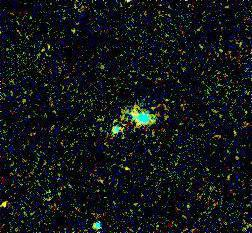star: (0, 187, 20, 217)
